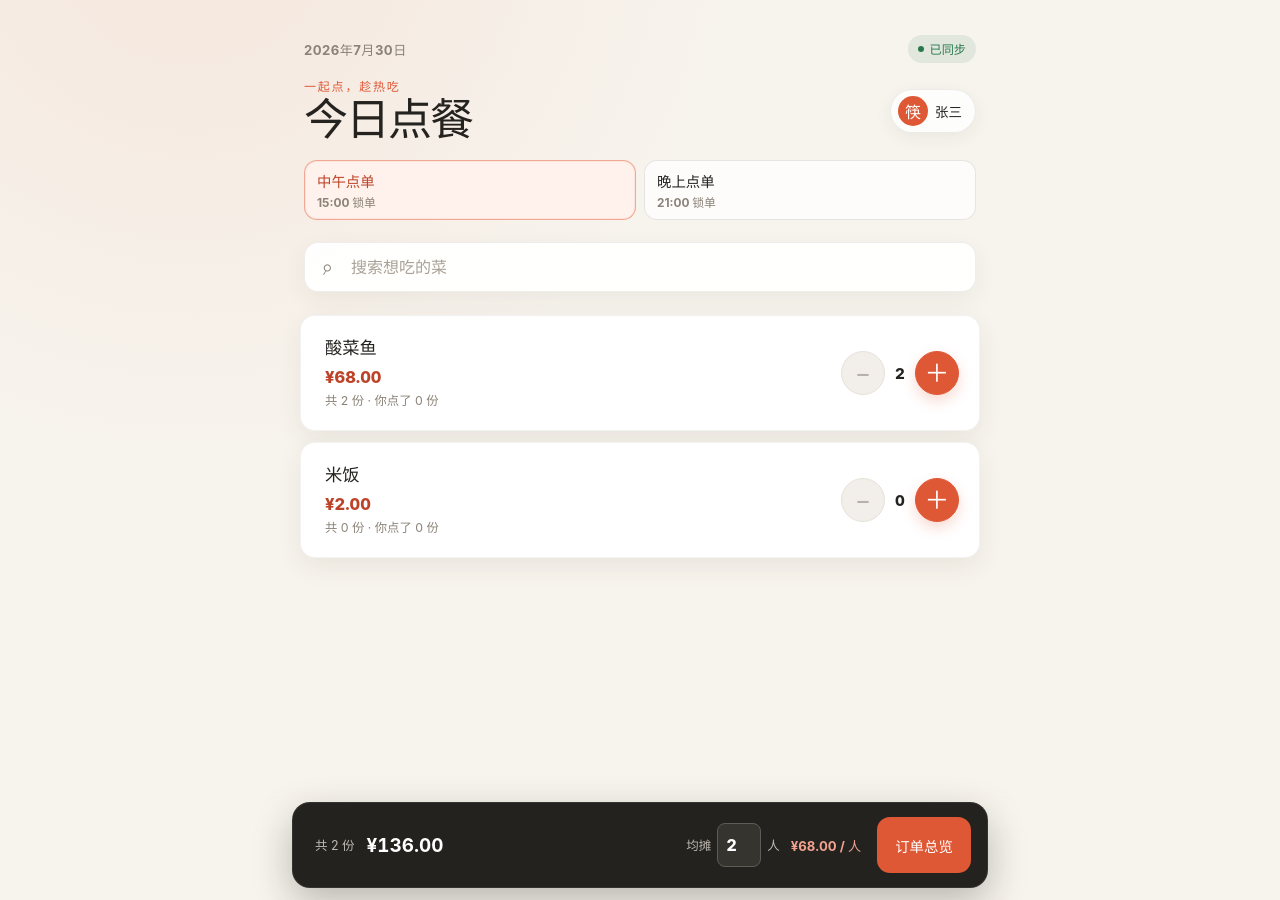
Test case: rejects invalid share count  and restores the original value
Clear the number field labelled "均摊": (739, 845) [717,823,761,867]
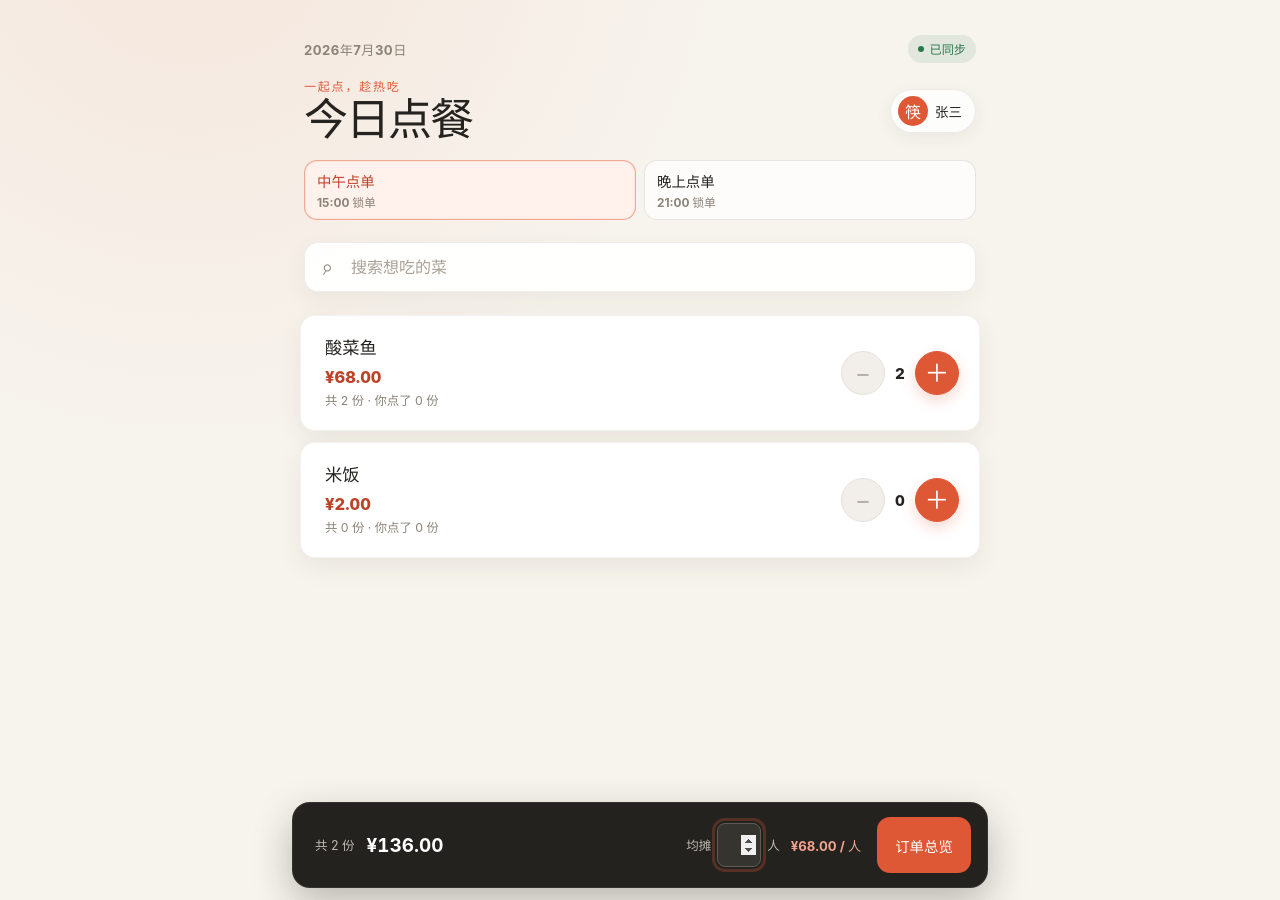
Press Tab
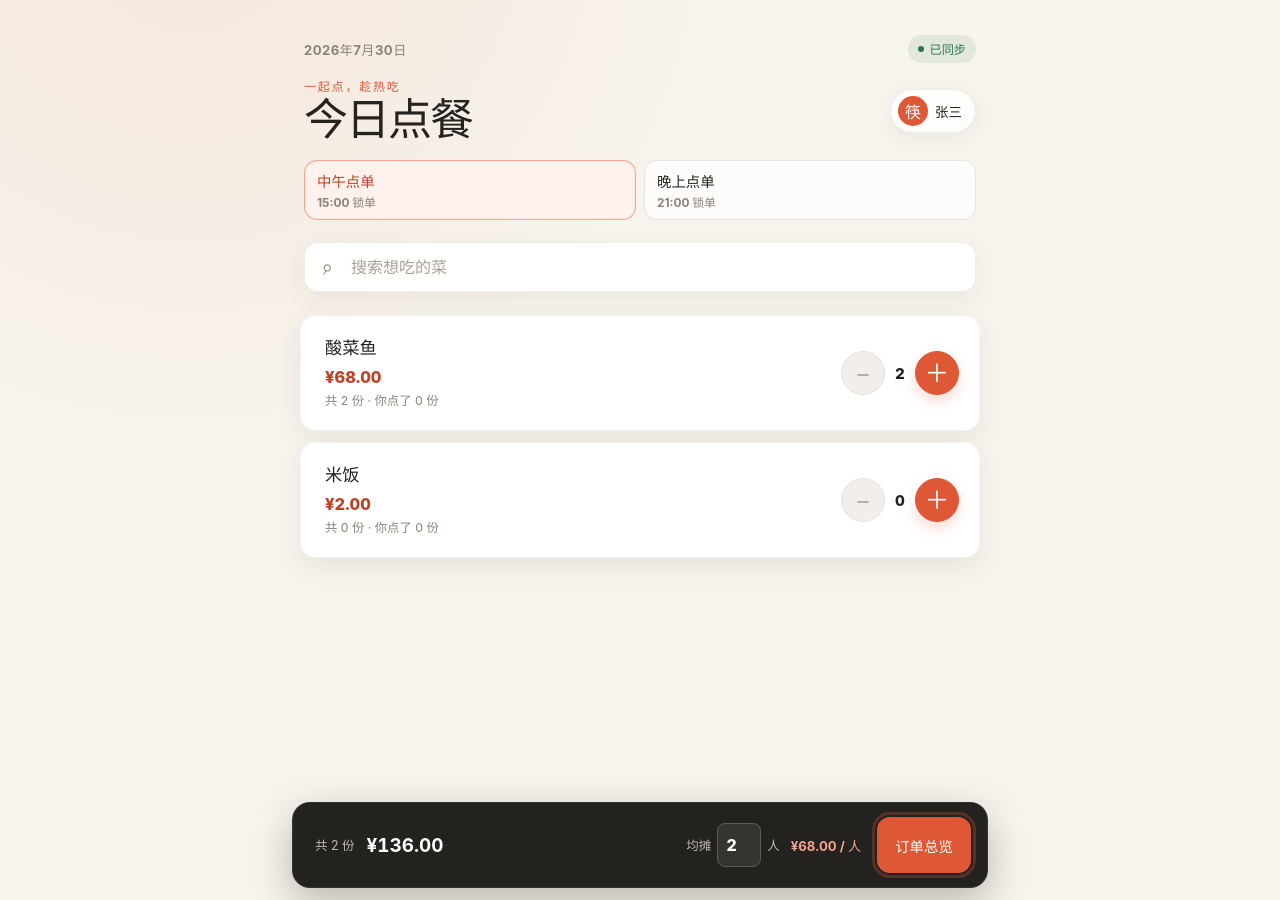
Expected: the number field labelled "均摊" holds "2", [717,823,761,867]
